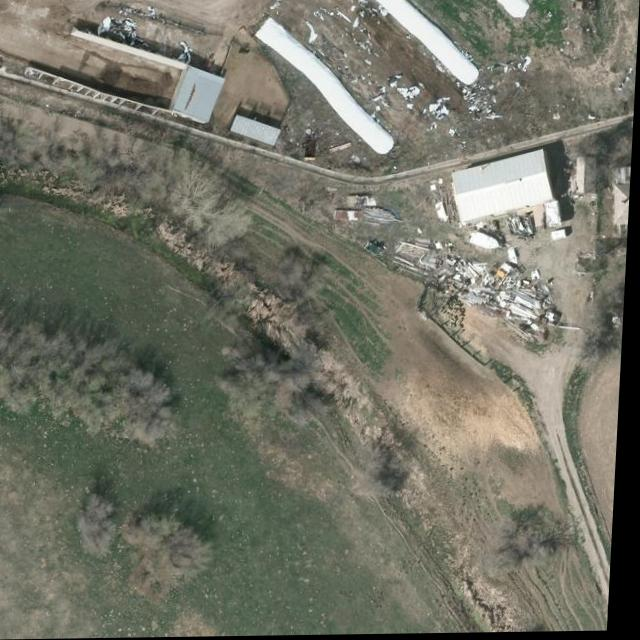vehicle: (489, 263, 520, 294)
